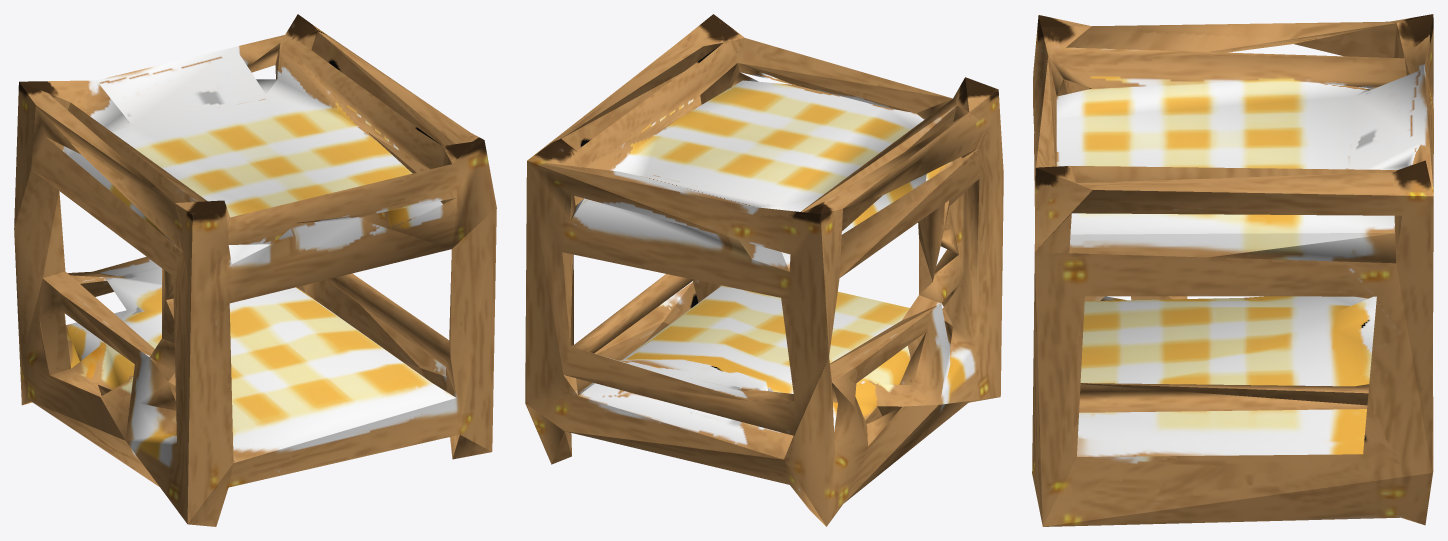
The model's file is family-bunk-bed.glb.
The picture shows the model from 3 angles, left to right: view 1: azimuth 30°, elevation 25°; view 2: azimuth 150°, elevation 25°; view 3: azimuth 270°, elevation 25°; orthographic projection. The views are drawn at different scales.
Parts seen in each view (by area): view 1: geometry_0.001; view 2: geometry_0.001; view 3: geometry_0.001.
Boxes of the visible parts, left/top/right/bottom form: geometry_0.001: left=14, top=14, right=496, bottom=526; geometry_0.001: left=525, top=14, right=1003, bottom=526; geometry_0.001: left=1032, top=14, right=1433, bottom=526.
Bounding box in the file's own units: 0.985 × 0.9974 × 0.9958.
Materials: 1 (1 with a texture image).
